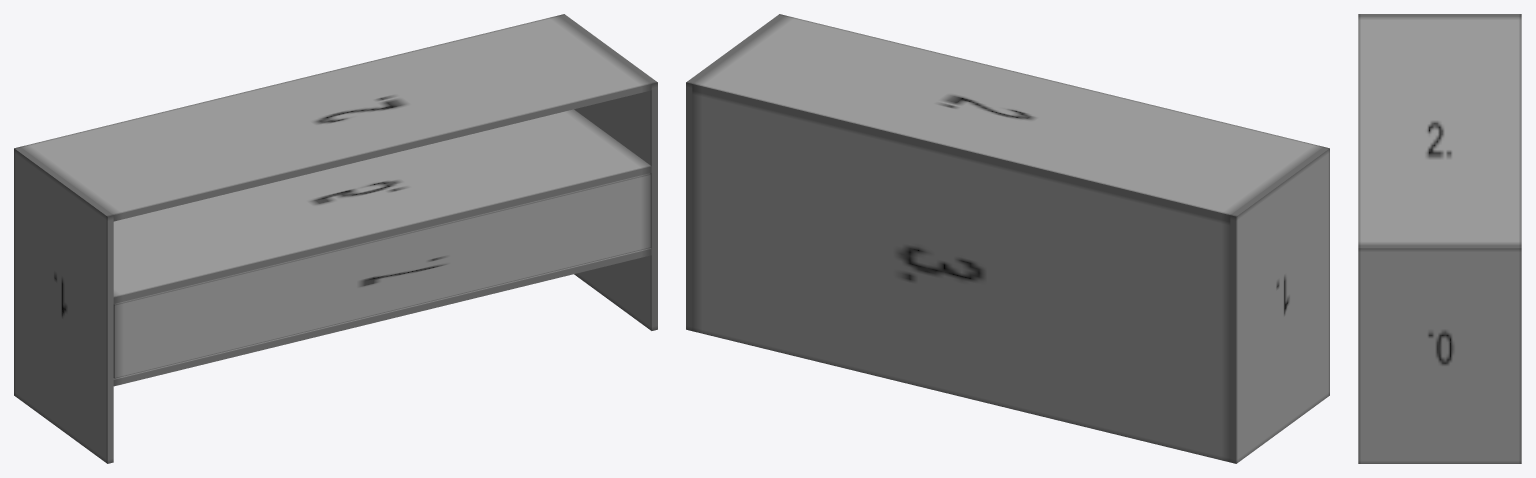
Rendered from meublenp.glb.
3 renders of one model, left to right at view 1: azimuth 30°, elevation 25°; view 2: azimuth 150°, elevation 25°; view 3: azimuth 270°, elevation 25°, orthographic. The views are drawn at different scales.
Visible parts, largest first — view 1: world; view 2: world; view 3: world.
Boxes of the visible parts, x1,y1,x2,y2 form: world: [14, 14, 657, 463]; world: [686, 14, 1329, 463]; world: [1358, 14, 1521, 463].
Size of the model in its own units: 1.7 by 0.73 by 0.5.
Materials: 1 (1 with a texture image).
